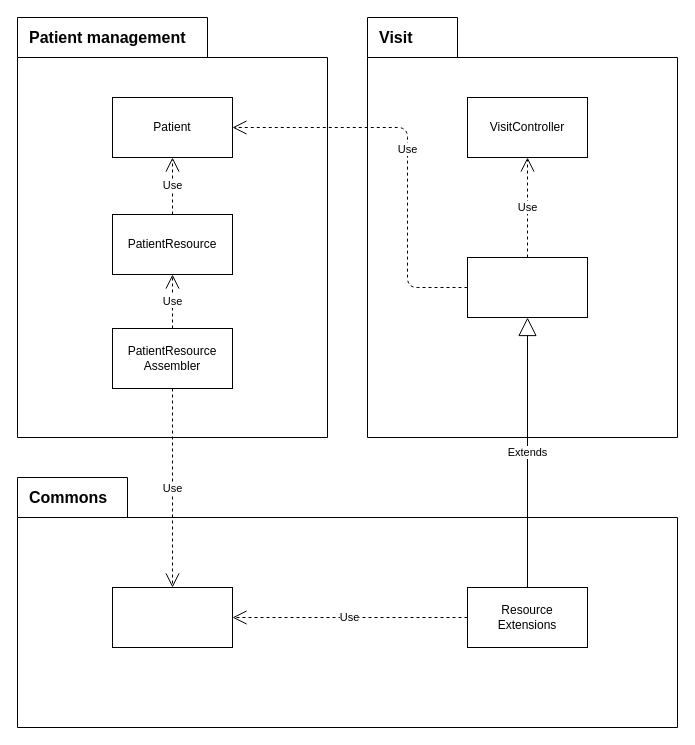
This 695x745 diagram has some shape labels left out. The shapes that lost their labels are listed below. From the top down, each one's centre as x and y in pixels, then its label:
[527,287]: VisitModuleResource Extensions
[172,617]: ResourceExtensions Registry
